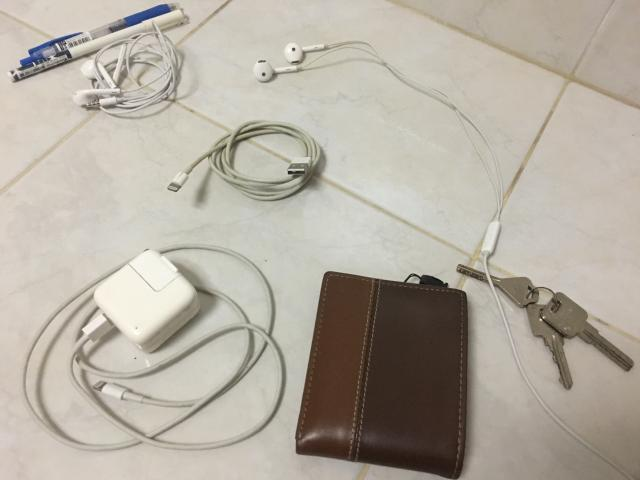Keys: (456, 263, 634, 389)
Pen: (8, 9, 185, 81), (20, 4, 178, 65)
Wallet: (296, 271, 468, 479)
wire: (20, 244, 286, 451), (254, 41, 452, 106), (168, 120, 320, 201), (72, 22, 180, 115)
